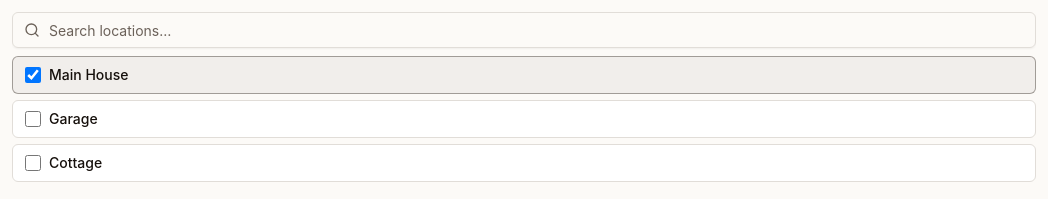
Test: <SelectedItemsPicker /> › keeps already-picked rows visible even when they don't match the query
Type "gar" into the search field with test id "selected-items-picker-search".
click(524, 30); type("gar")  # box [12,12,1036,48]
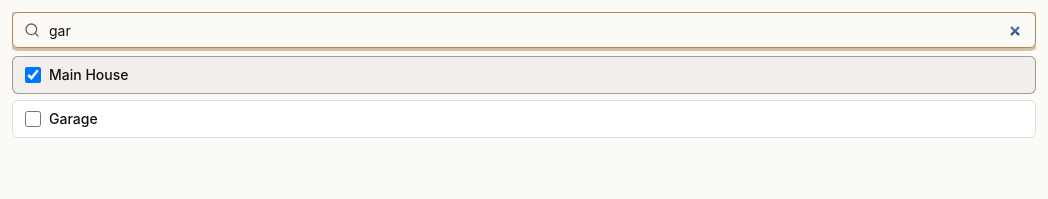
Expected: the text "Main House" is shown, [12,56,1036,94]
Expected: the label with test id "selected-items-picker-row-loc-3" is gone
